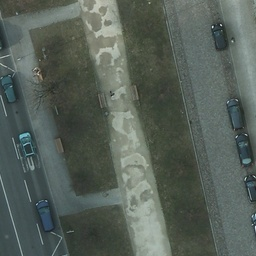car: (209, 21, 235, 50), (35, 198, 57, 231), (234, 135, 254, 166), (0, 74, 19, 104), (19, 132, 36, 159), (0, 21, 4, 52)
van: (222, 100, 252, 131)
